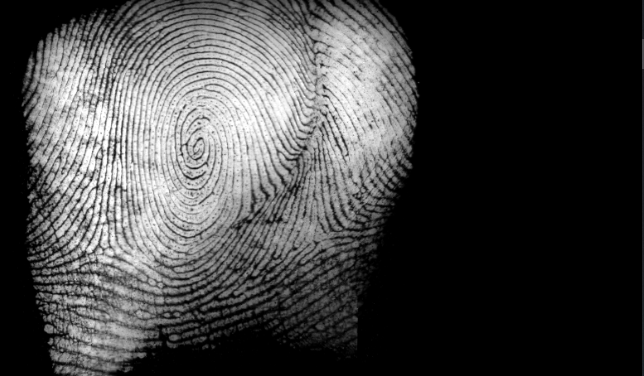deltas: (293, 203, 341, 258), (76, 220, 124, 274)
nucleo: (172, 119, 215, 172)
